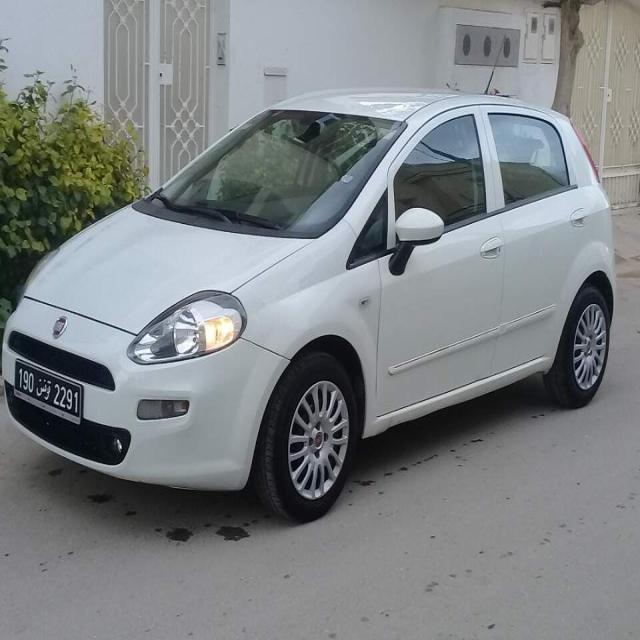LP: (13, 358, 82, 416)
